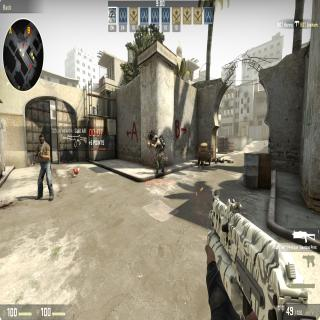CT-Body: (152, 134, 164, 174)
CT-Head: (153, 134, 158, 142)
T-Body: (36, 133, 51, 200)
T-Head: (39, 134, 45, 146)
